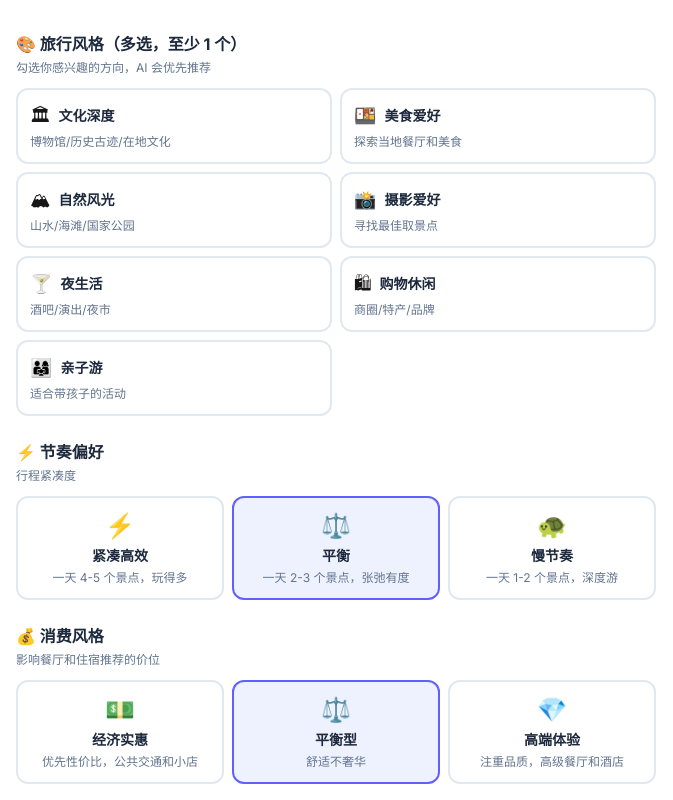
Test: ProfileEditor › CTA enables after selecting a style
The width and height of the screenshot is (673, 800).
Click the text "文化深度" at (86, 116), box [58,106,114,126]
(page scrolled)
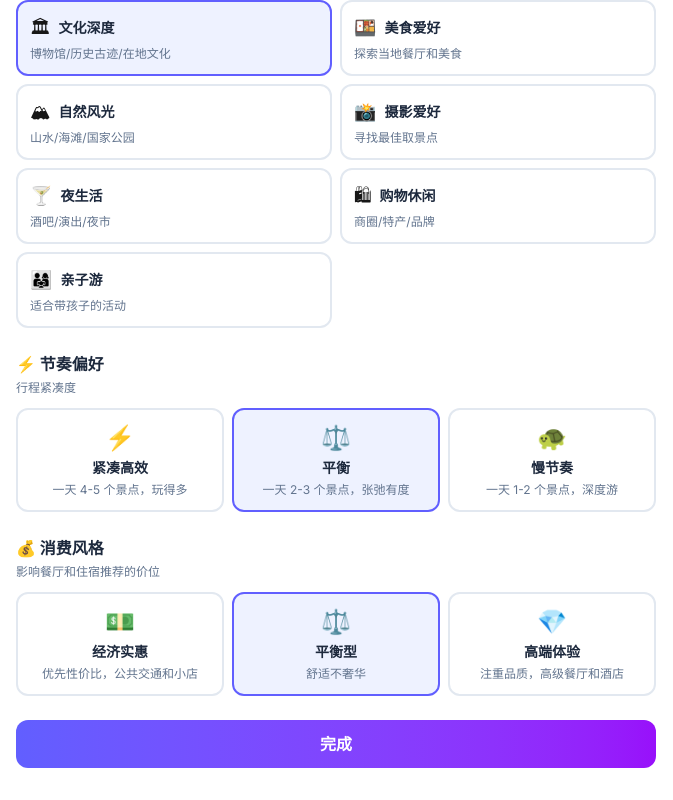
expect the button "完成" is enabled: met, box [16,720,656,768]
